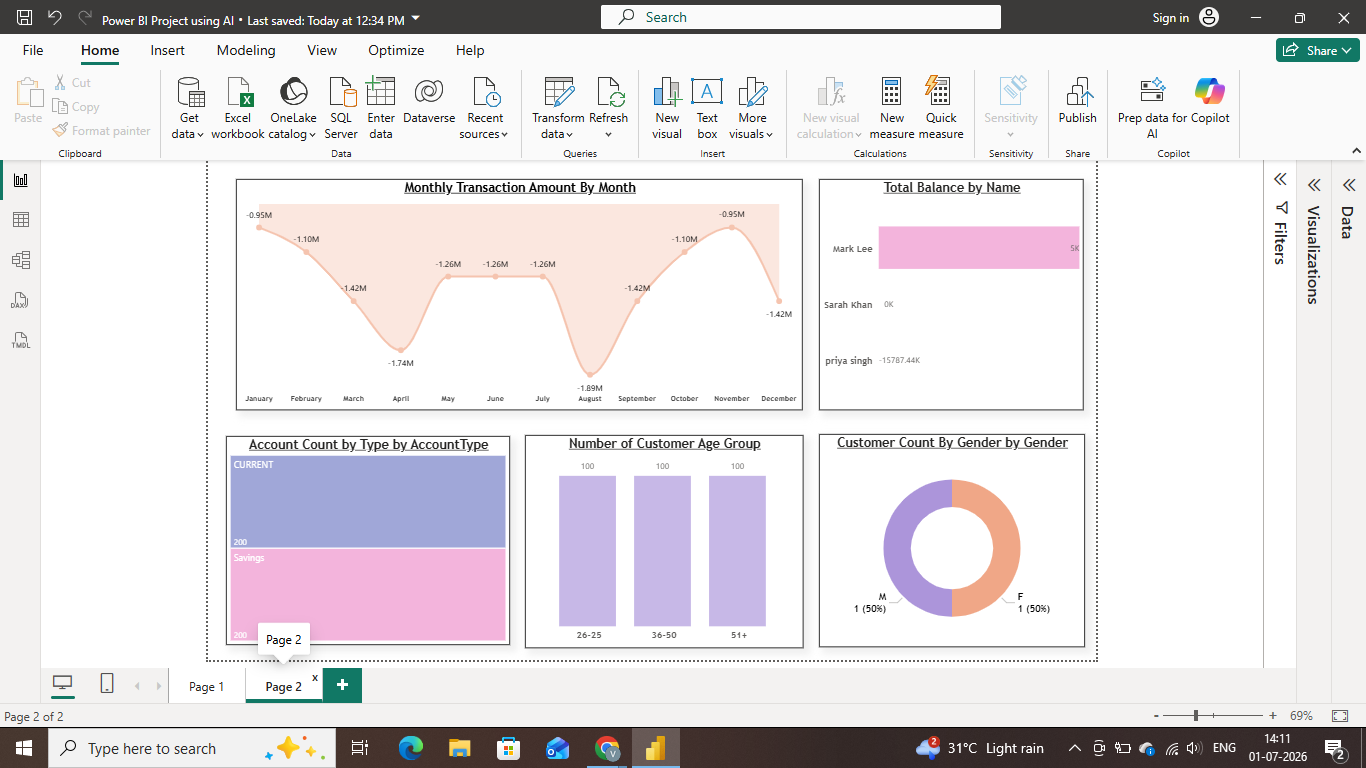

This screenshot's page, from the dashboard's own definition file:
{"tool":"powerbi","page":{"name":"Page 2","canvas":[1280,720],"ordinal":1},"visuals":[{"type":"donutChart","fields":{"Category":["CombinedBankingDataset.Gender"],"Y":["Measure Table.Customer Count By Gender"]},"box":[879.8,394.6,383,306.7],"z":0},{"type":"columnChart","title":"Number of Customer Age Group","fields":{"Category":["CombinedBankingDataset.Customer Age Group"],"Y":["CountNonNull(CombinedBankingDataset.CustomerID)"]},"box":[456.3,395.3,400.5,306.5],"z":1000},{"type":"treemap","fields":{"Group":["CombinedBankingDataset.AccountType"],"Values":["Measure Table.Account Count by Type"]},"box":[26.1,397.1,409.3,301.3],"z":2000},{"type":"barChart","title":"Total Balance by Name","fields":{"Y":["Sum(CombinedBankingDataset.Balance)"],"Category":["CombinedBankingDataset.Name"]},"box":[880.2,26.9,381.3,332.6],"z":3000},{"type":"areaChart","title":"Monthly Transaction Amount By Month","fields":{"Category":["CombinedBankingDataset.TransactionDate.Variation.Date Hierarchy.Month"],"Y":["Measure Table.Monthly Transaction Balance"]},"box":[40.3,26.9,816.4,332.6],"z":4000}]}

Visuals, with their boxes on the page's 1280x720 design canvas (x1, y1, x2, y2). These are canvas units, not pixel positions in the 1366x768 screenshot, which may show the page scaled, cropped or inside an application window:
donutChart - CombinedBankingDataset.Gender x Measure Table.Customer Count By Gender: box(880, 395, 1263, 701)
"Number of Customer Age Group" columnChart: box(456, 395, 857, 702)
treemap - CombinedBankingDataset.AccountType x Measure Table.Account Count by Type: box(26, 397, 435, 698)
"Total Balance by Name" barChart: box(880, 27, 1262, 360)
"Monthly Transaction Amount By Month" areaChart: box(40, 27, 857, 360)
